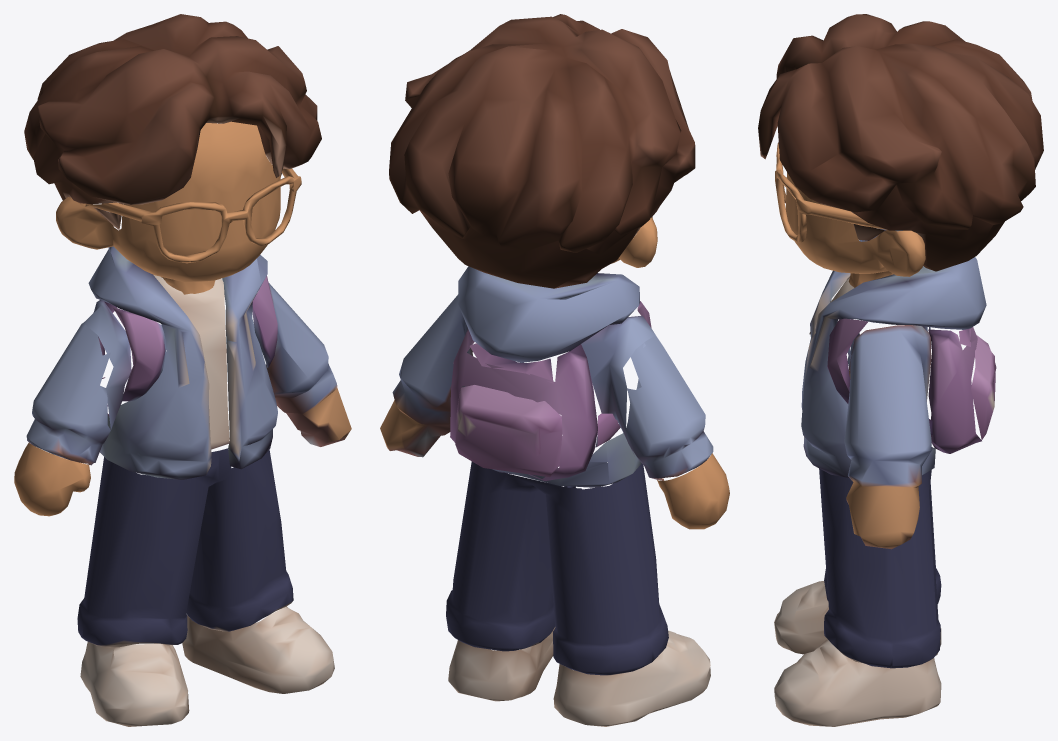
The picture shows the model from 3 angles, left to right: view 1: azimuth 30°, elevation 25°; view 2: azimuth 150°, elevation 25°; view 3: azimuth 270°, elevation 25°; orthographic projection. The views are drawn at different scales.
Parts seen in each view (by area): view 1: hair, bottom, top, head, sleeve_r, sleeve_l, shoe_l, shoe_r, hand_r; view 2: hair, bottom, top, sleeve_r, shoe_r, sleeve_l, shoe_l, hand_r, head; view 3: hair, top, sleeve_l, bottom, shoe_l, head, shoe_r.
Part boxes in pixels (x1,y1,x2,y2): hair: (24, 14, 321, 230); bottom: (77, 448, 293, 647); top: (82, 246, 277, 479); head: (56, 121, 301, 294); sleeve_r: (26, 306, 165, 463); sleeve_l: (252, 276, 351, 446); shoe_l: (182, 606, 334, 693); shoe_r: (80, 642, 189, 726); hand_r: (14, 443, 90, 516); hair: (389, 14, 695, 288); bottom: (446, 461, 668, 675); top: (450, 266, 663, 487); sleeve_r: (595, 301, 713, 478); shoe_r: (553, 630, 710, 726); sleeve_l: (380, 294, 472, 457); shoe_l: (448, 627, 555, 701); hand_r: (657, 453, 729, 529); head: (611, 217, 657, 267); hair: (758, 14, 1043, 271); top: (801, 228, 996, 477); sleeve_l: (827, 318, 932, 549); bottom: (819, 468, 941, 668); shoe_l: (774, 639, 941, 726); head: (775, 142, 925, 287); shoe_r: (774, 581, 941, 655).
Size of the model in its own units: 0.5511 by 1.03 by 0.4167.
